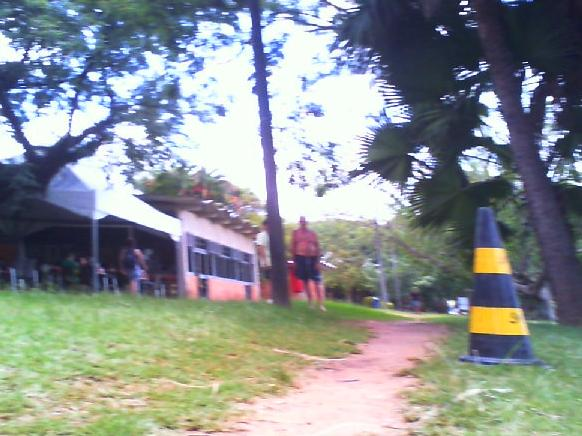0 cone: (457, 206, 545, 367)
